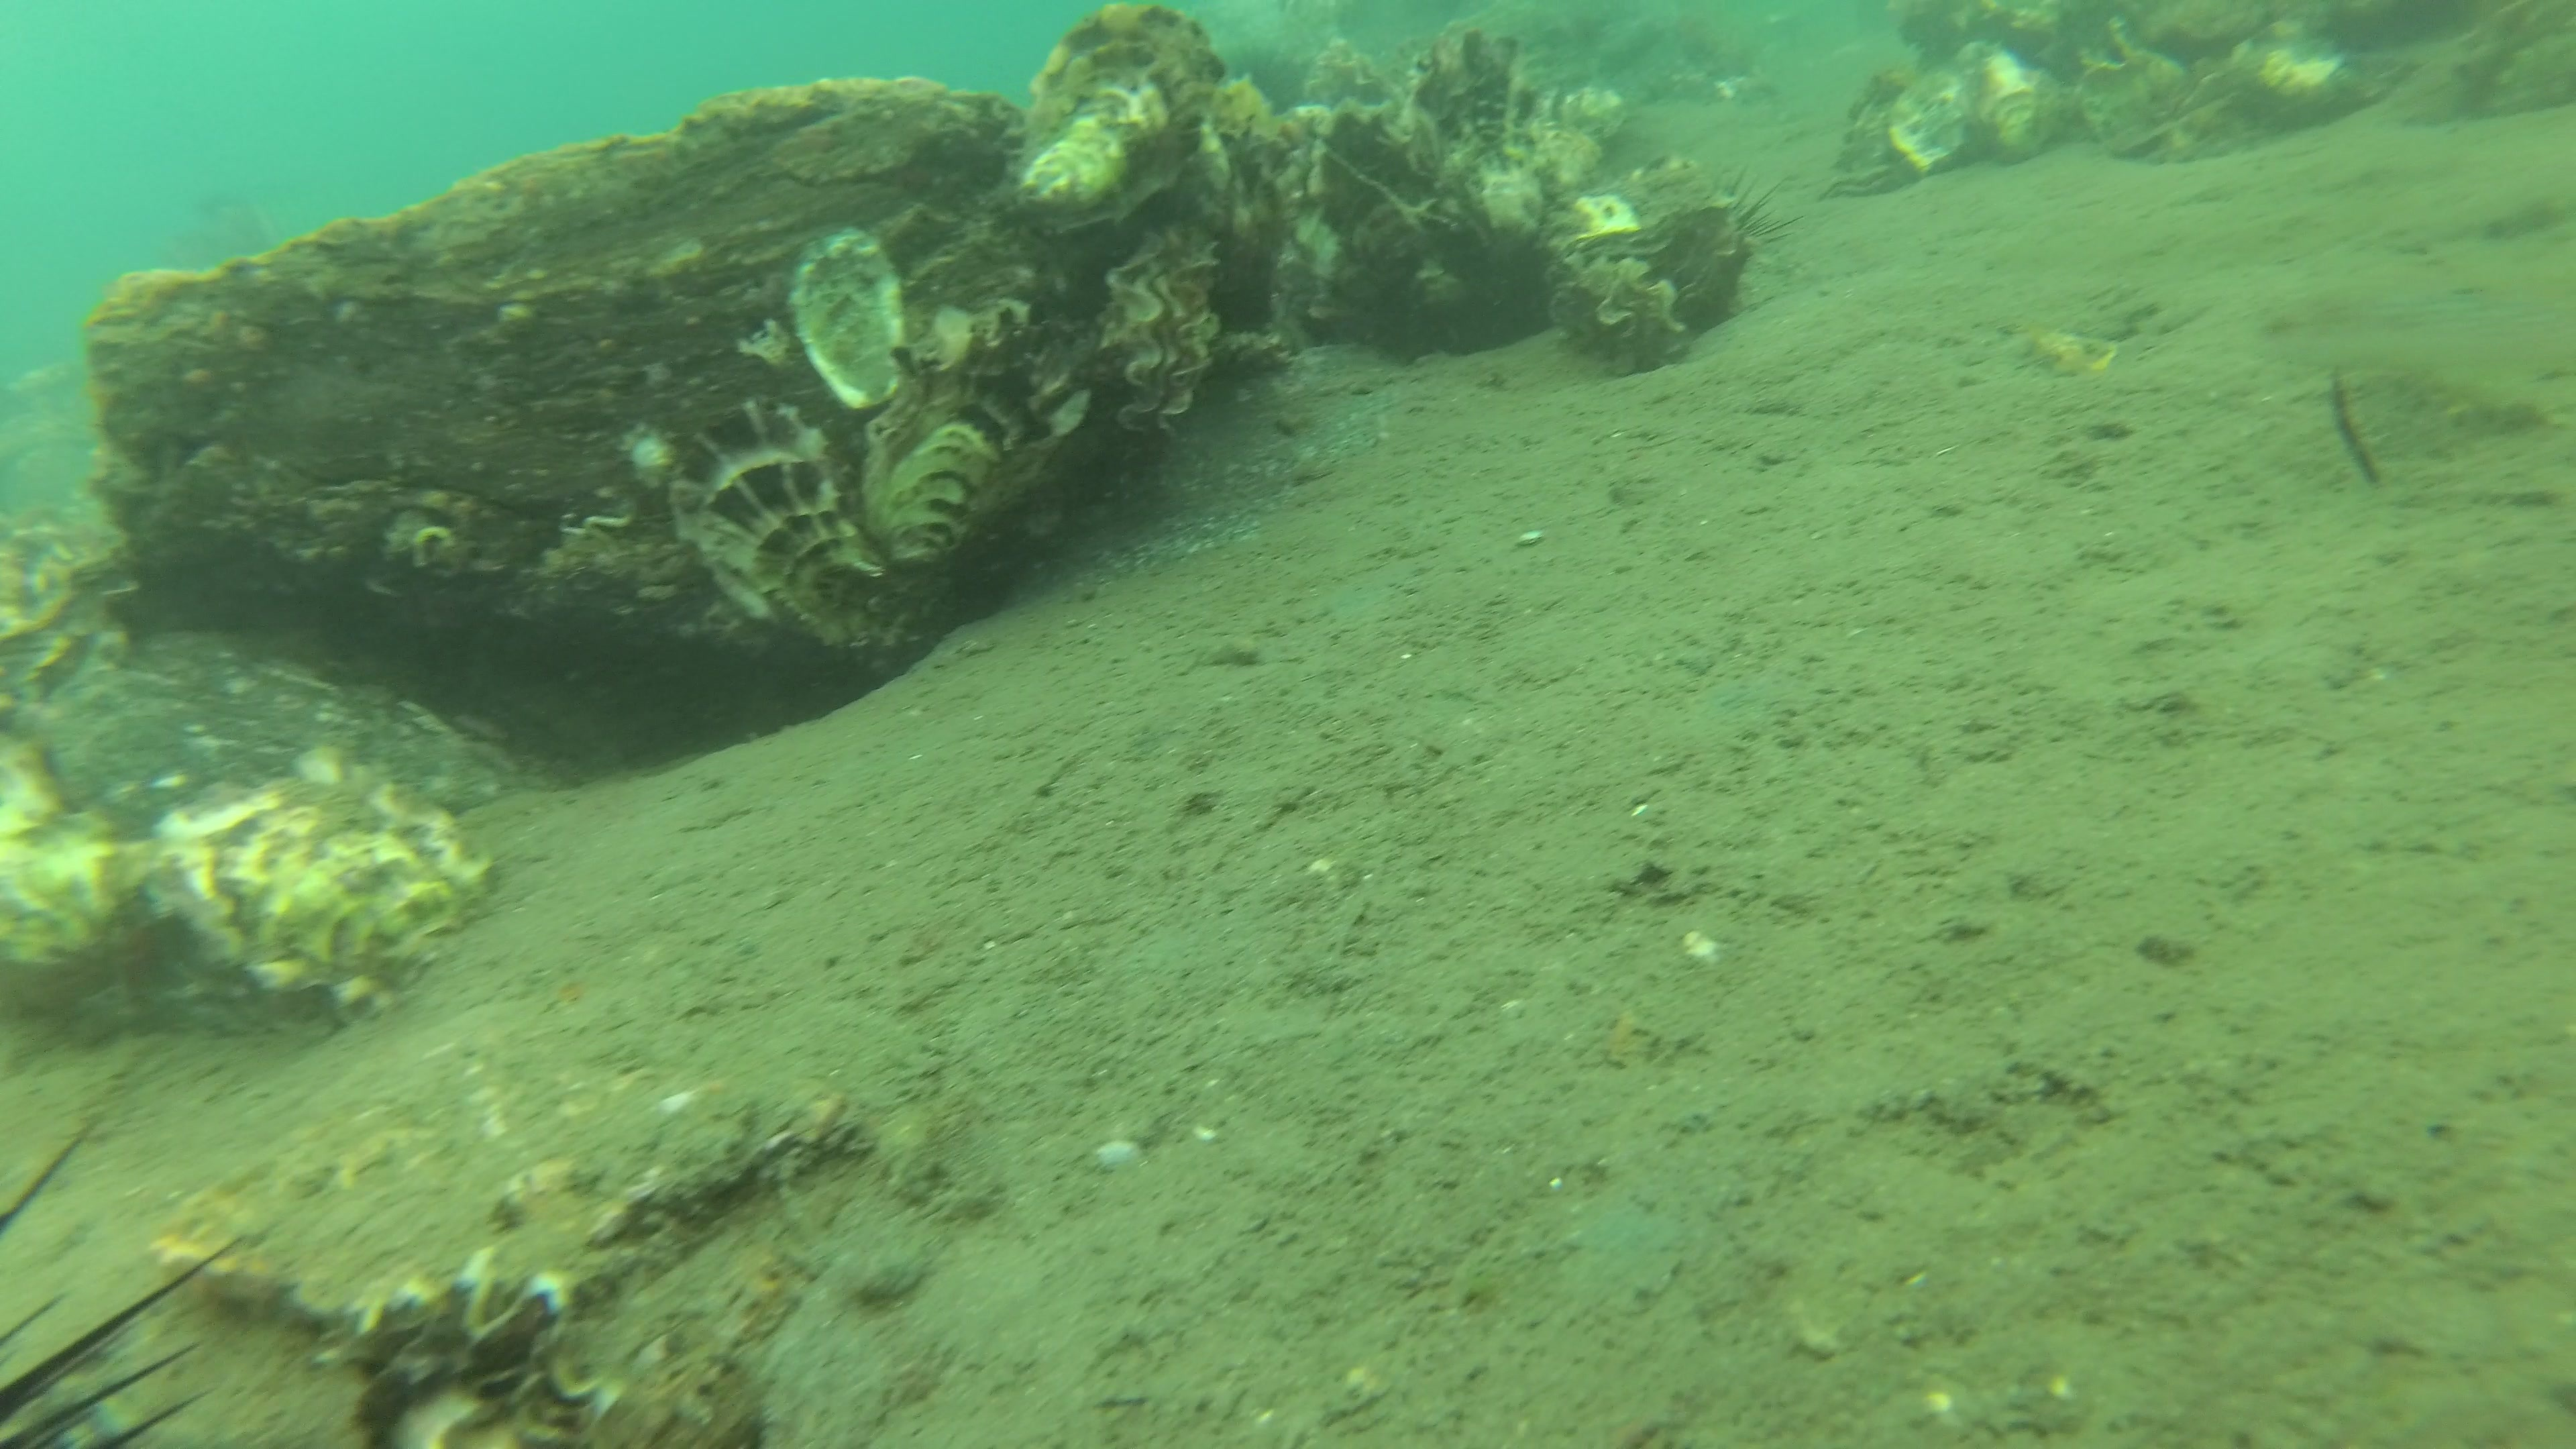echinus: (0, 1104, 258, 1449), (1711, 161, 1808, 267)
